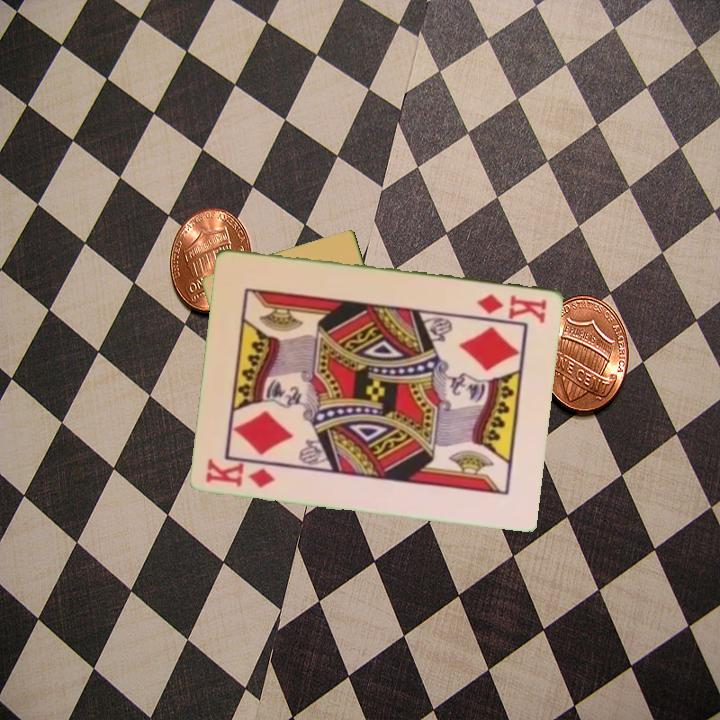Kd: (203, 456, 278, 491), (473, 290, 550, 323)
